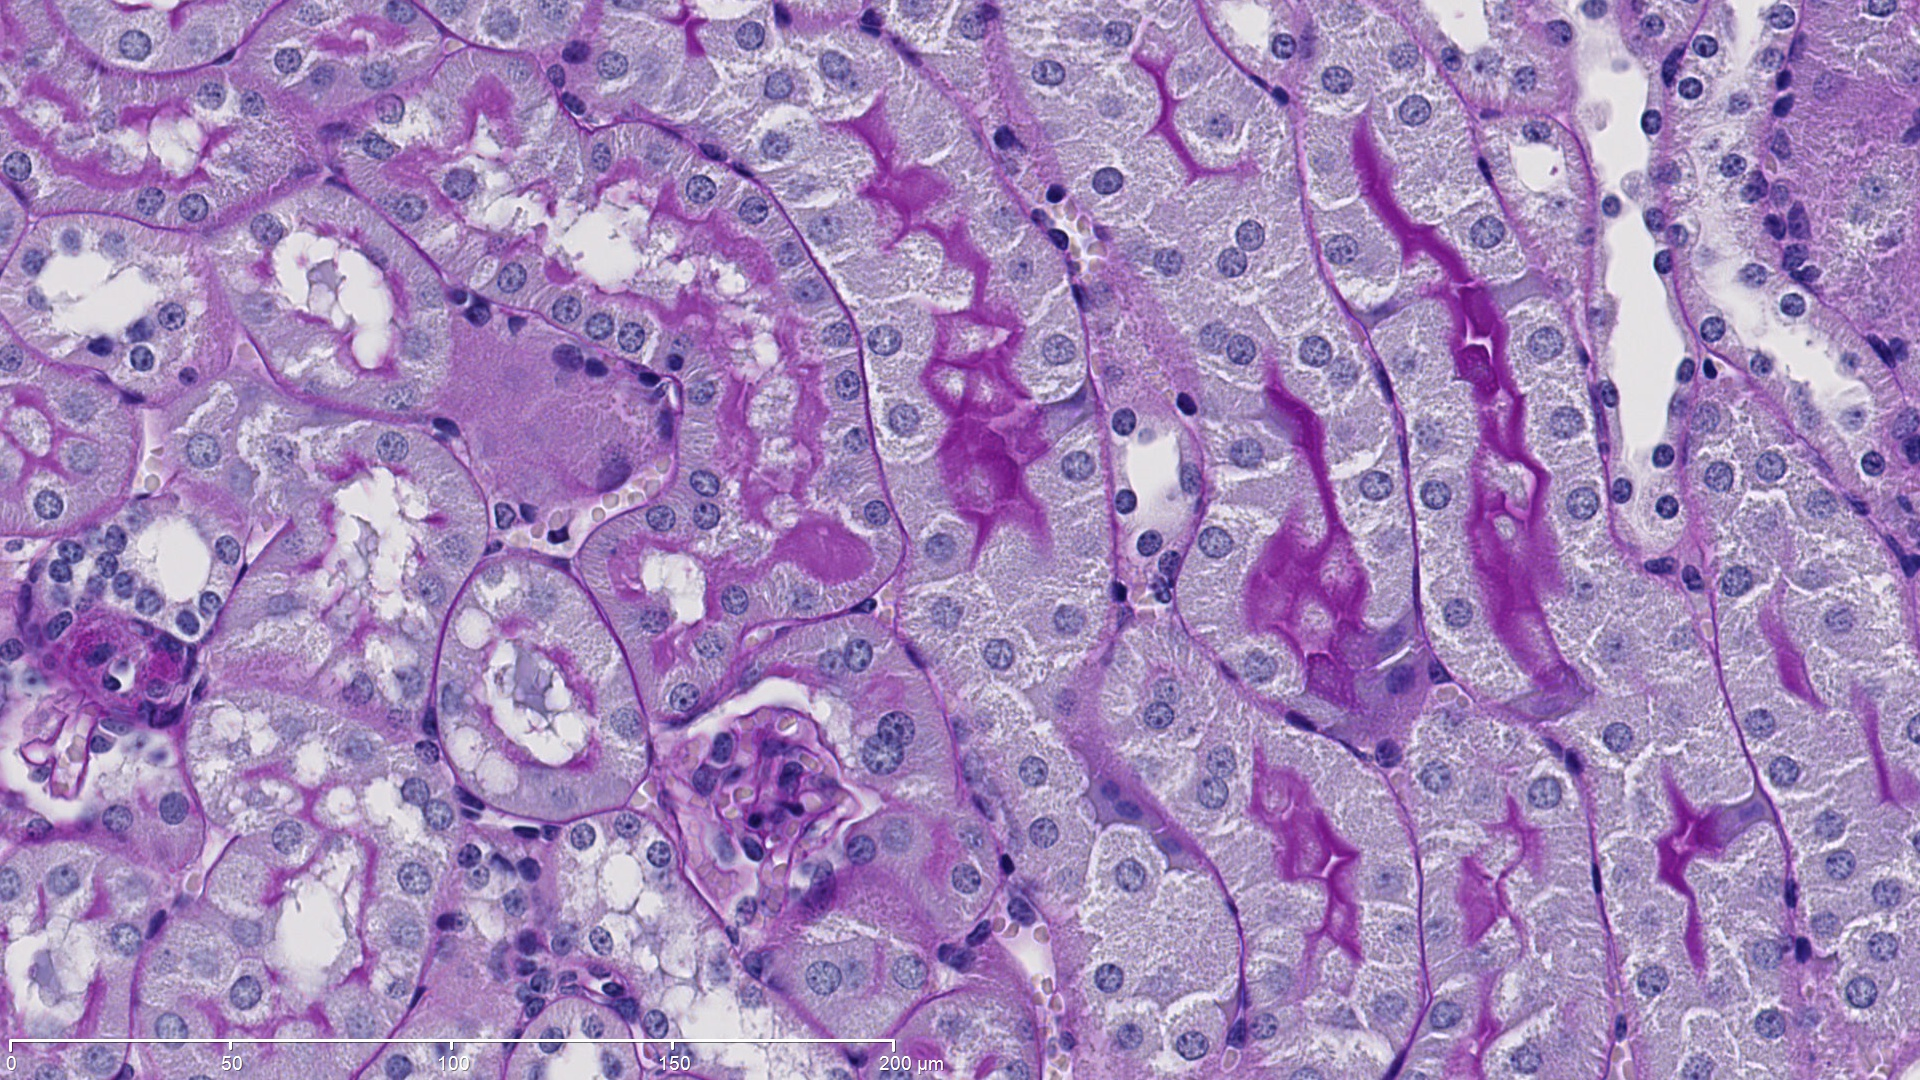Glomeruli: (671, 708, 853, 891)
